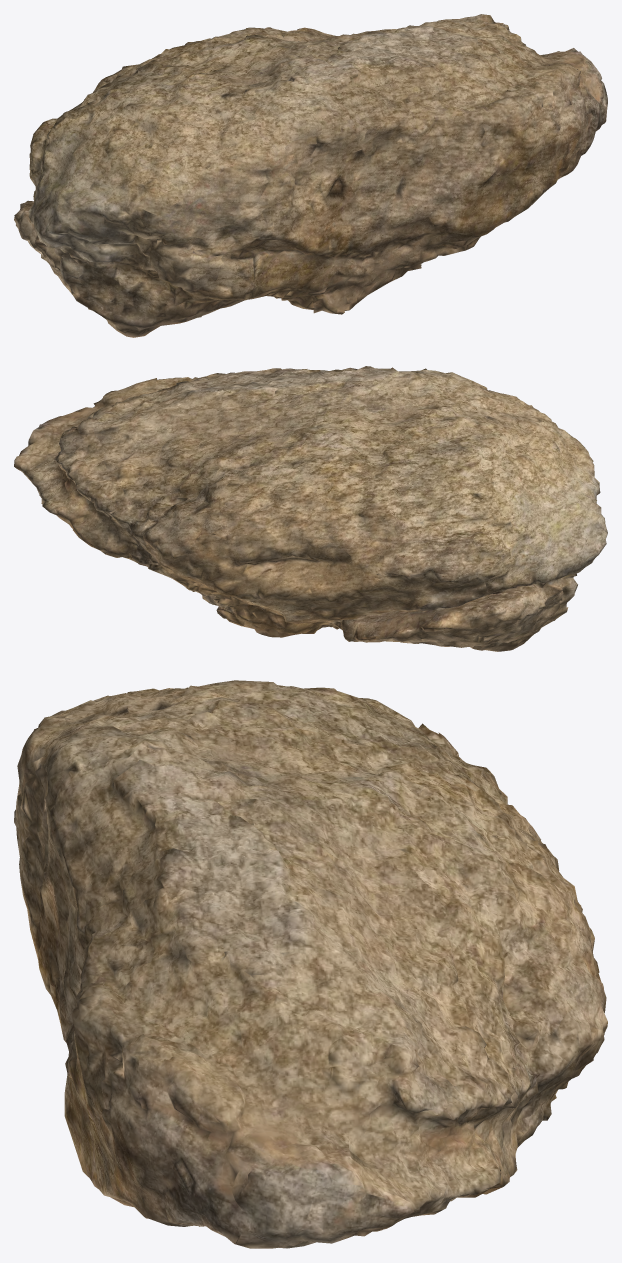
File: namaqualand-boulder-05.glb
The picture shows the model from 3 angles, top to bottom: view 1: azimuth 30°, elevation 25°; view 2: azimuth 150°, elevation 25°; view 3: azimuth 270°, elevation 25°; orthographic projection. The views are drawn at different scales.
Parts seen in each view (by area): view 1: namaqualand_boulder_05; view 2: namaqualand_boulder_05; view 3: namaqualand_boulder_05.
Boxes of the visible parts, bbox=[...] form: namaqualand_boulder_05: bbox=[14, 14, 607, 337]; namaqualand_boulder_05: bbox=[14, 366, 607, 651]; namaqualand_boulder_05: bbox=[14, 680, 607, 1248].
Bounding box in the file's own units: 1.36 × 0.5384 × 0.7481.
Materials: 1 (1 with a texture image).
